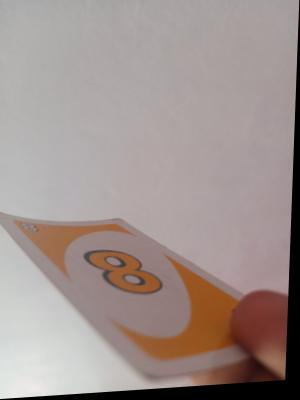num_8: (76, 234, 177, 303)
yellow: (14, 218, 58, 242)
